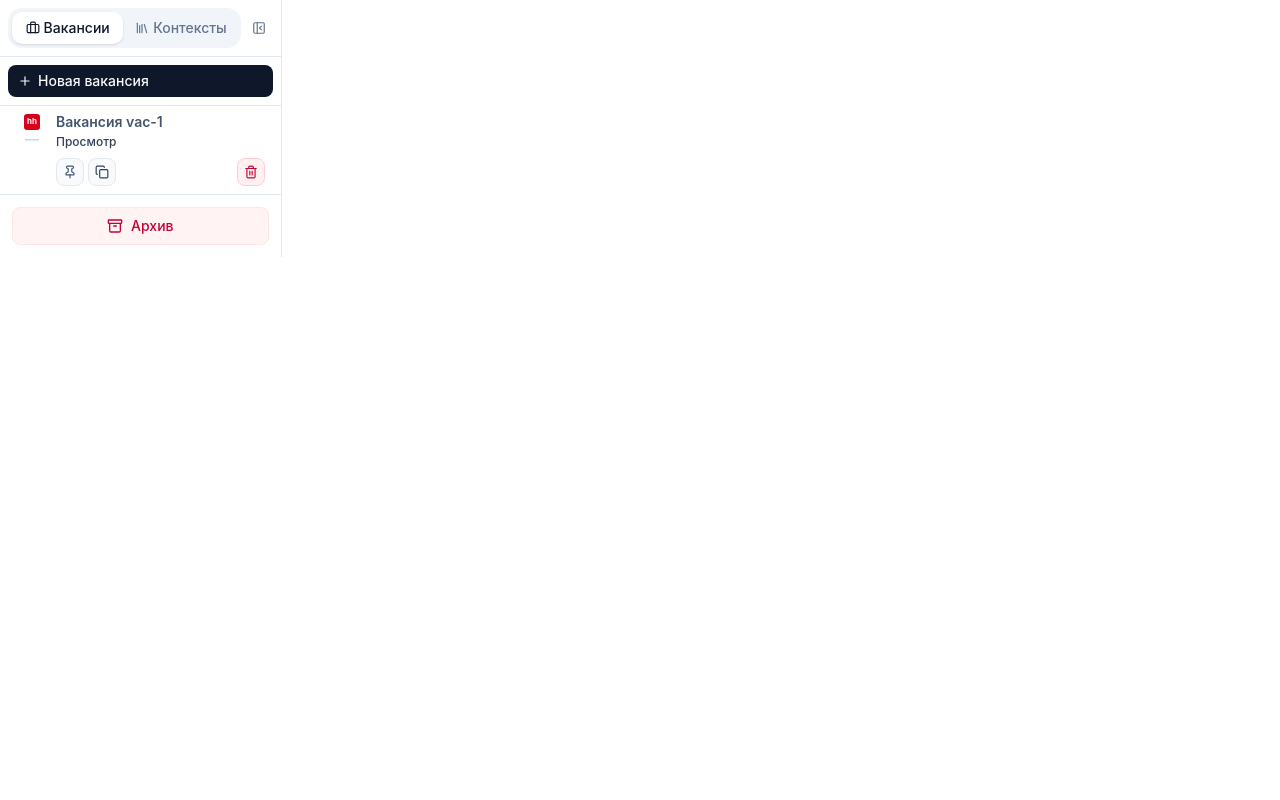
Test: ChatsSidebar — подтверждение удаления (F-11) › отмена в диалоге не удаляет контекст
Click the button "Контексты".
click(181, 28)  # box [125, 12, 237, 44]
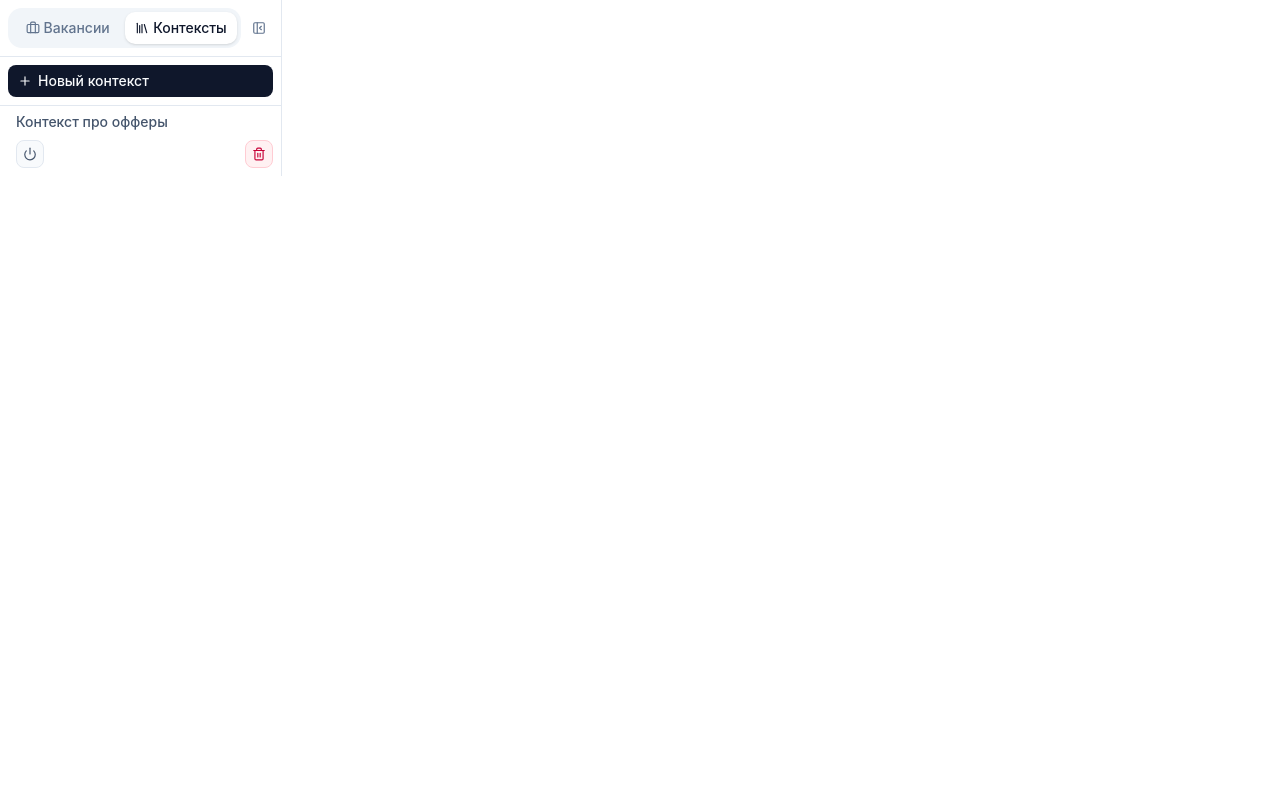
Click the button titled "Удалить контекст".
click(259, 154)  # box [245, 140, 273, 168]
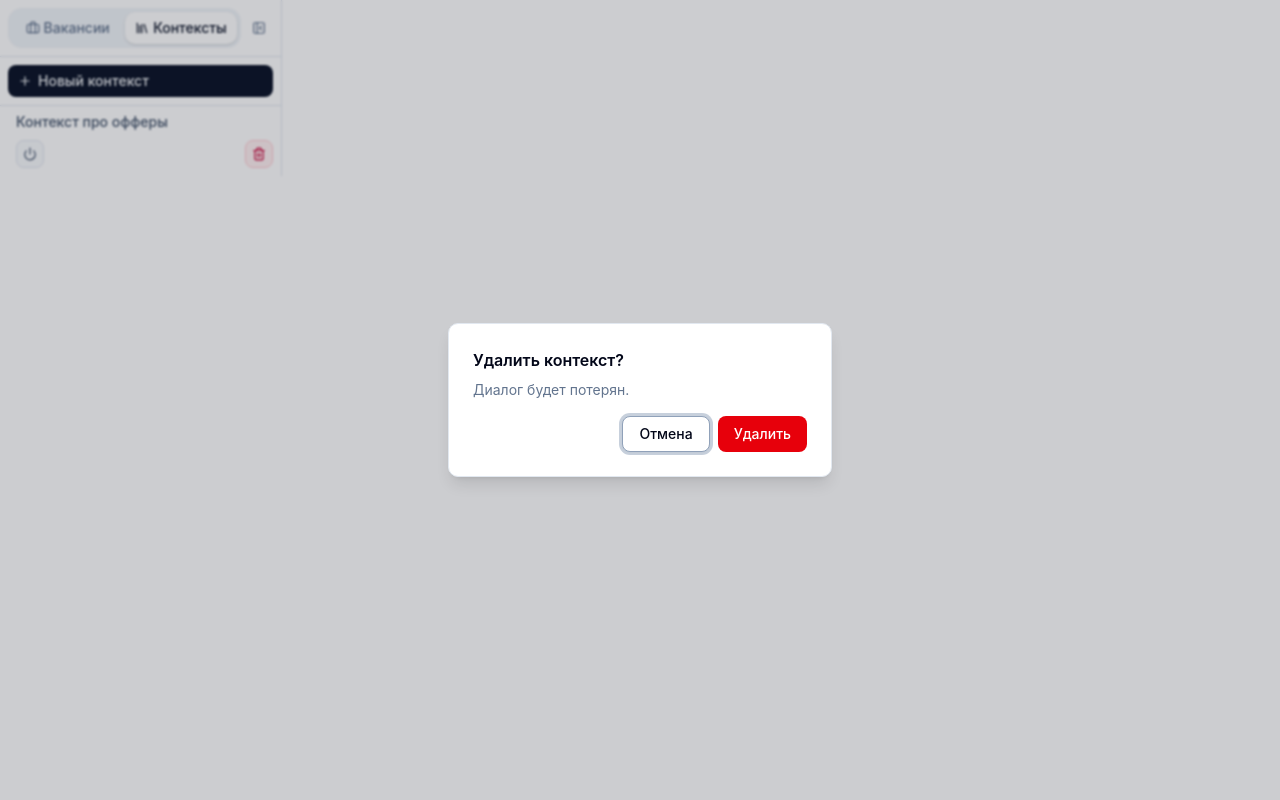
Check: the heading "Удалить контекст?" is shown, box [473, 350, 624, 370]
Click the button "Отмена".
click(666, 434)  # box [622, 416, 710, 452]
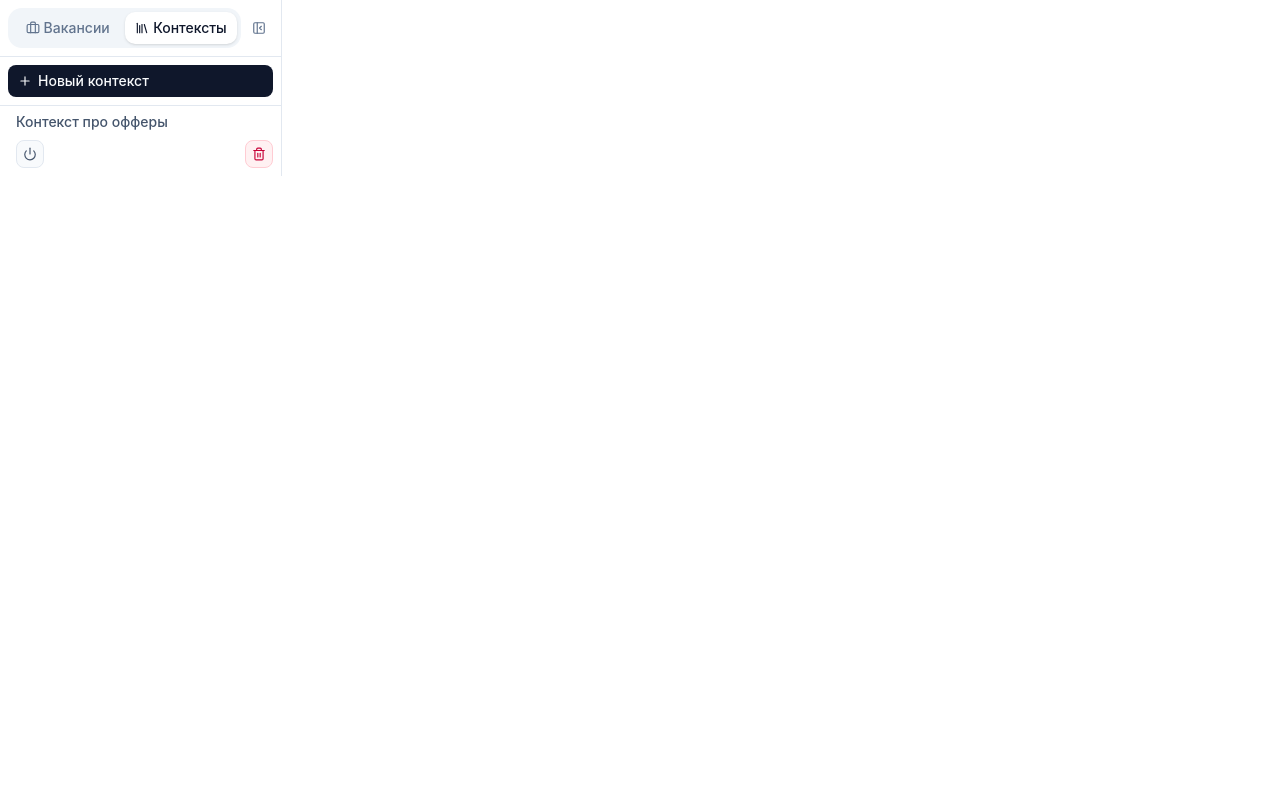
Check: the heading "Удалить контекст?" is gone
